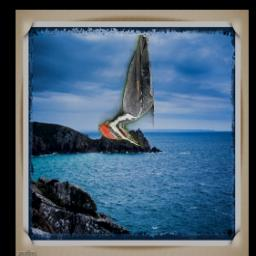Woodpecker: (99, 36, 155, 147)
